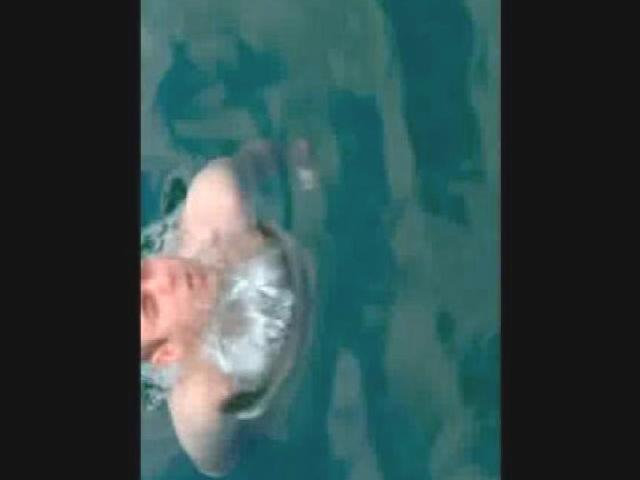swimming: (142, 147, 302, 480)
